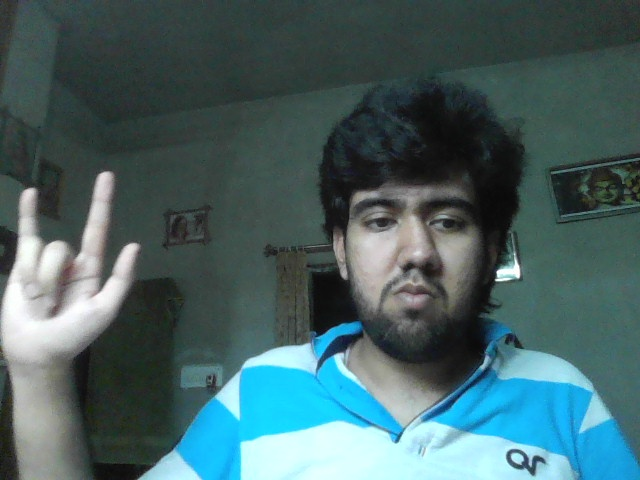ILoveYou: (2, 171, 141, 361)
